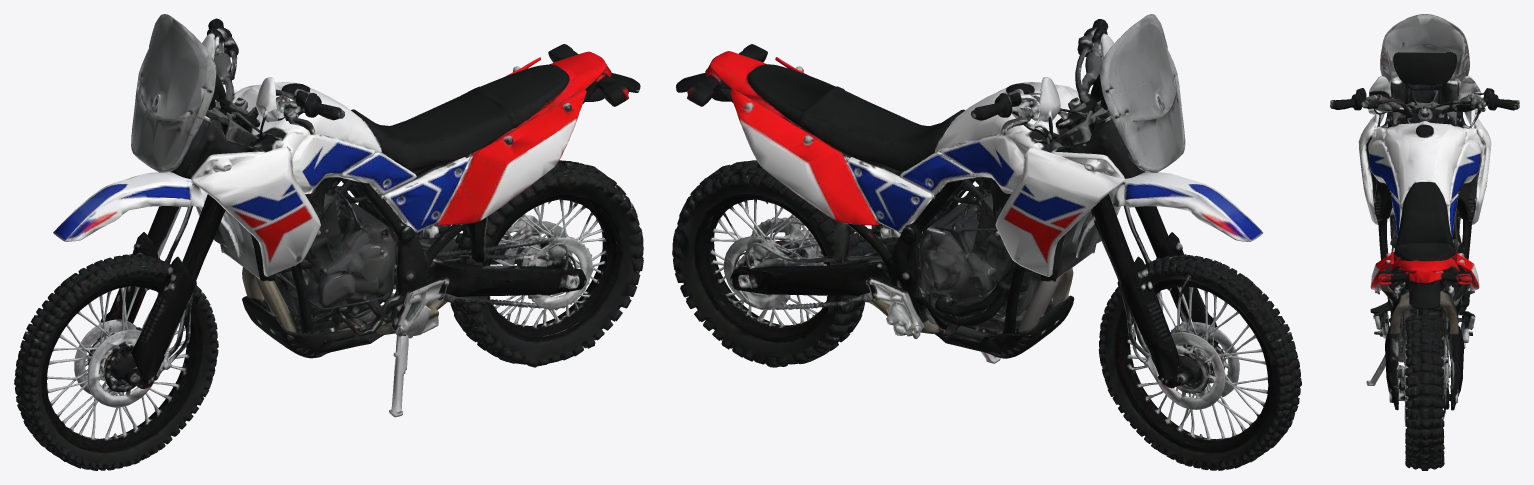
The model's file is andes-900-dakar.glb.
3 renders of one model, left to right at view 1: azimuth 30°, elevation 25°; view 2: azimuth 150°, elevation 25°; view 3: azimuth 270°, elevation 25°, orthographic. The views are drawn at different scales.
Bounding box in the file's own units: 1.9 × 1.27 × 0.687.
Materials: 1 (1 with a texture image).
